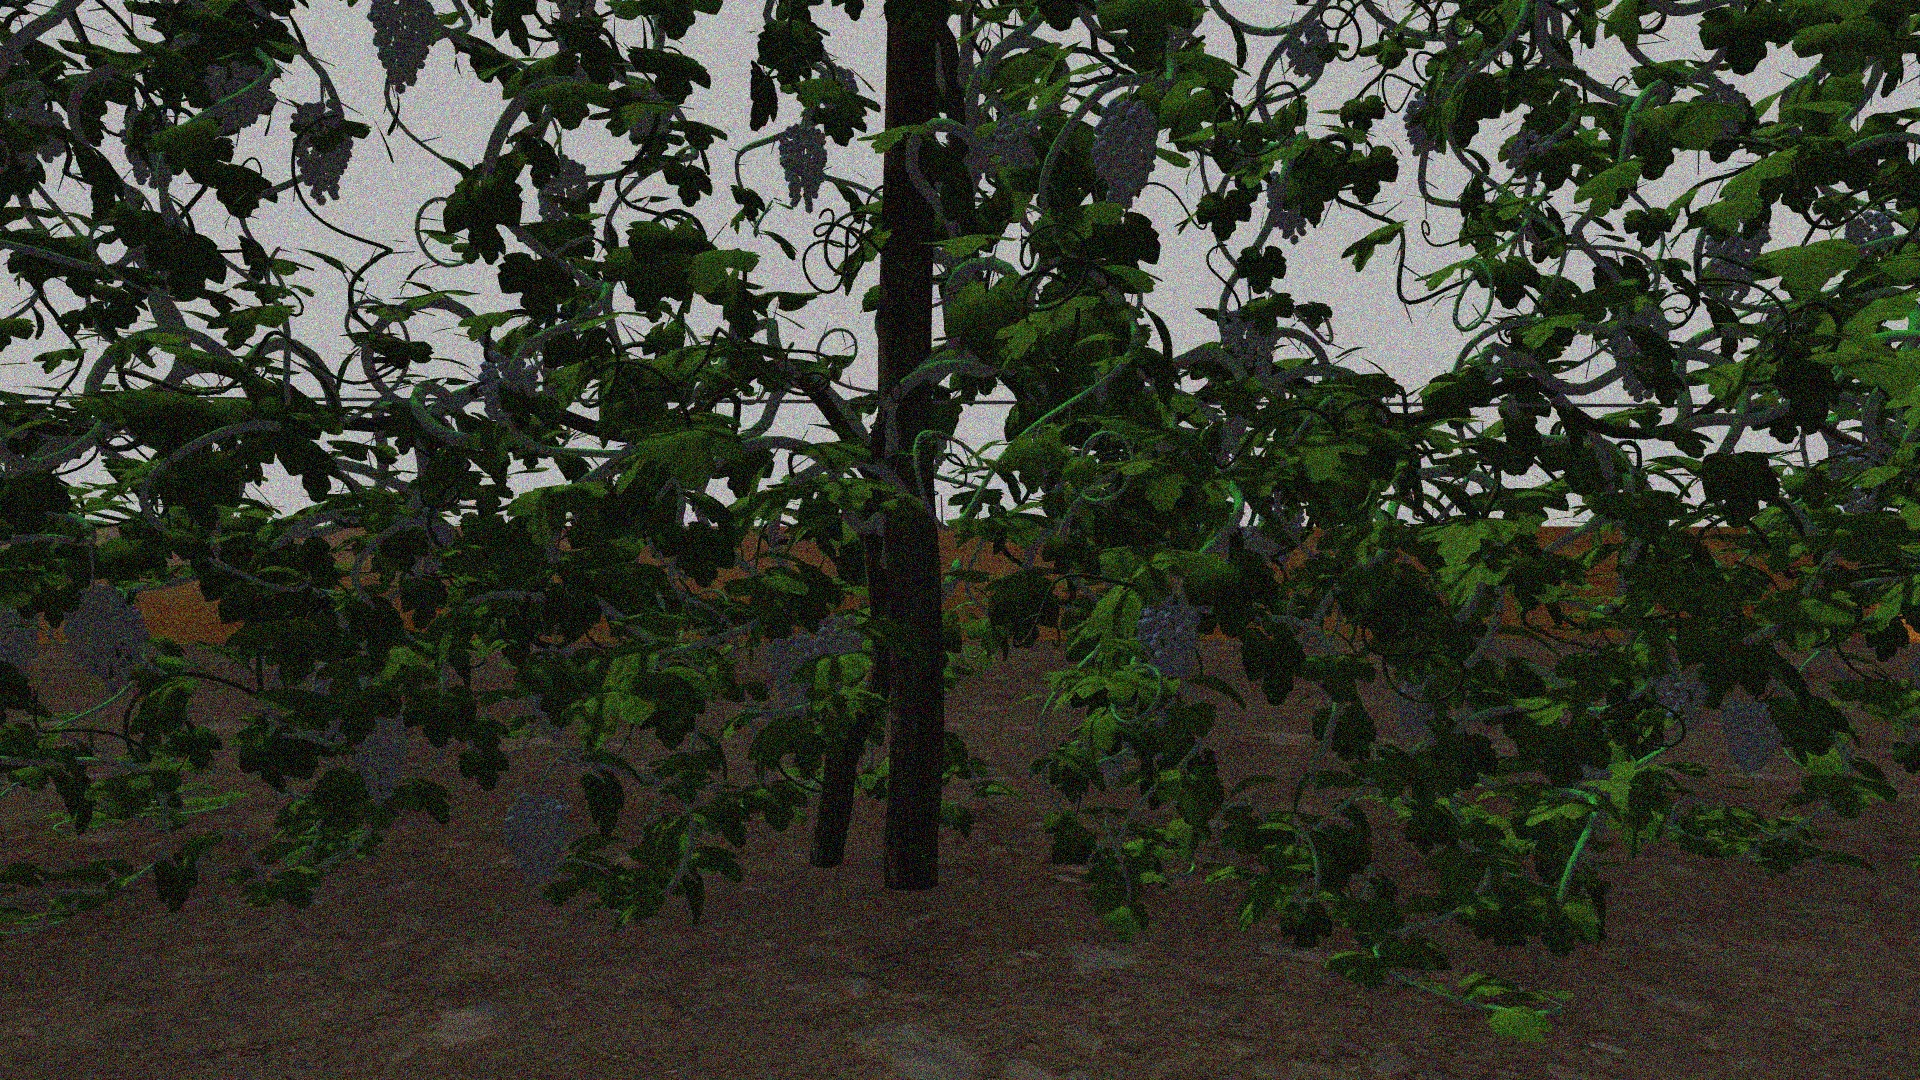grape: (65, 585, 149, 686), (1095, 95, 1159, 208), (501, 791, 572, 894), (291, 100, 359, 203), (365, 7, 444, 94), (353, 695, 414, 804), (1700, 223, 1768, 307), (1135, 607, 1203, 686), (1720, 695, 1785, 775), (1614, 309, 1671, 401), (204, 65, 281, 132), (476, 349, 539, 429), (1221, 301, 1282, 380), (781, 123, 829, 214), (767, 629, 818, 704), (538, 156, 589, 223), (1656, 669, 1710, 731), (1394, 678, 1445, 740), (993, 113, 1040, 170), (818, 615, 864, 665), (1505, 127, 1556, 171), (1288, 24, 1331, 76)
